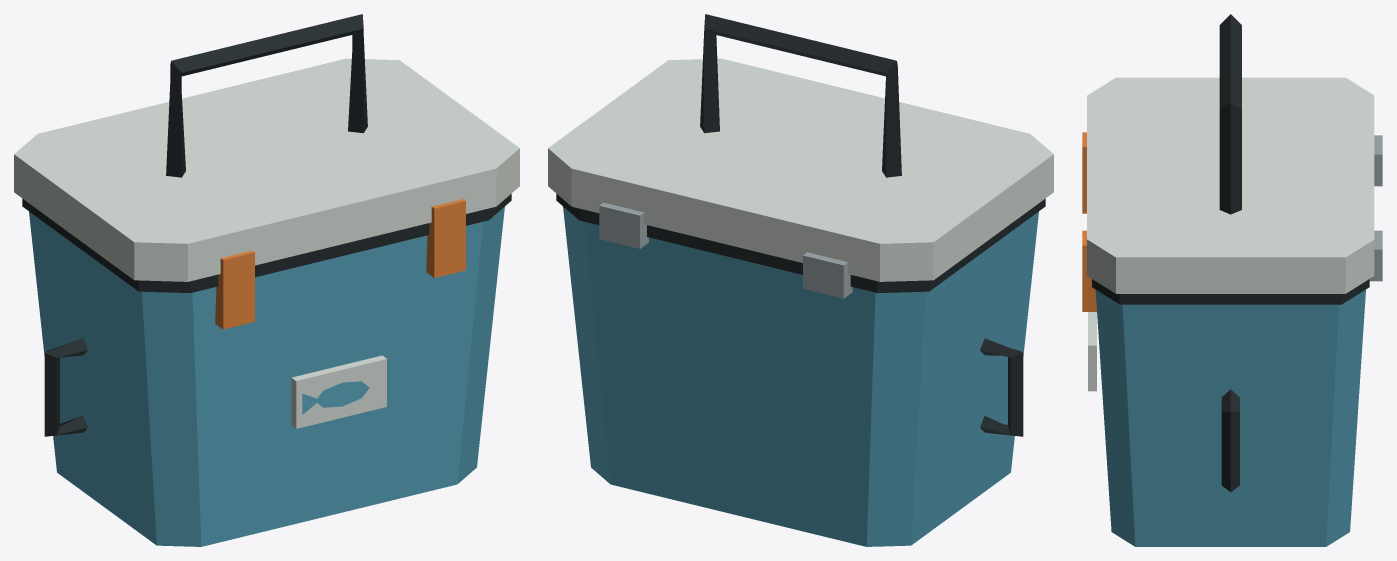
The model's file is small_box.glb.
3 renders of one model, left to right at view 1: azimuth 30°, elevation 25°; view 2: azimuth 150°, elevation 25°; view 3: azimuth 270°, elevation 25°, orthographic. The views are drawn at different scales.
Visible parts, largest first — view 1: small_box__small_box body, small_box__Insulated lid, small_box__Rubber and grip, small_box__Safety orange; view 2: small_box__small_box body, small_box__Insulated lid, small_box__Rubber and grip, small_box__Stainless fittings; view 3: small_box__small_box body, small_box__Insulated lid, small_box__Rubber and grip, small_box__Safety orange, small_box__Stainless fittings.
Part boxes in pixels (x1=…): small_box__small_box body: x1=29, y1=206, x2=504, y2=546; small_box__Insulated lid: x1=14, y1=58, x2=519, y2=428; small_box__Rubber and grip: x1=22, y1=14, x2=511, y2=436; small_box__Safety orange: x1=215, y1=199, x2=465, y2=329; small_box__small_box body: x1=563, y1=206, x2=1038, y2=546; small_box__Insulated lid: x1=548, y1=58, x2=1053, y2=281; small_box__Rubber and grip: x1=556, y1=14, x2=1045, y2=436; small_box__Stainless fittings: x1=599, y1=202, x2=852, y2=298; small_box__small_box body: x1=1095, y1=289, x2=1365, y2=546; small_box__Insulated lid: x1=1087, y1=77, x2=1374, y2=391; small_box__Rubber and grip: x1=1092, y1=14, x2=1369, y2=491; small_box__Safety orange: x1=1082, y1=132, x2=1096, y2=311; small_box__Stainless fittings: x1=1369, y1=135, x2=1382, y2=281.
Size of the model in its own units: 0.4886 by 0.4546 by 0.2994.
